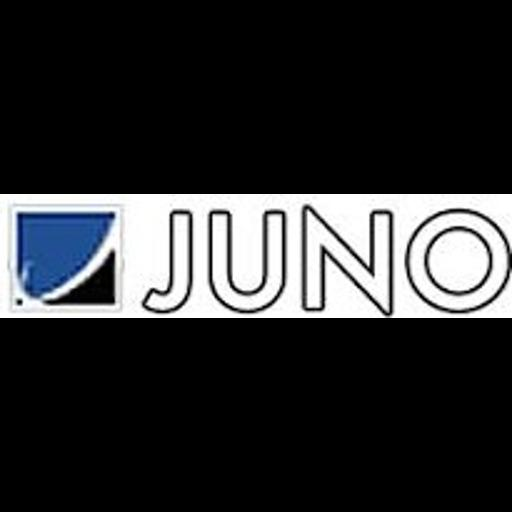Juno Online Services: (0, 194, 512, 318)
